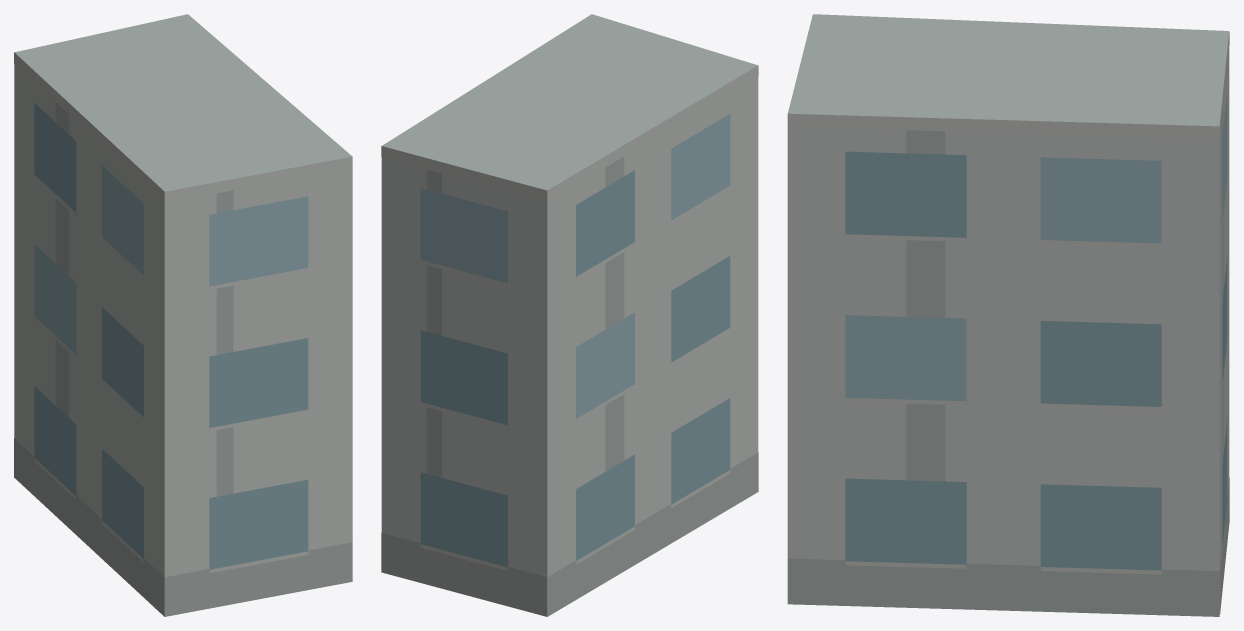
Rendered from survey-upis-32538374.glb.
3 renders of one model, left to right at view 1: azimuth 30°, elevation 25°; view 2: azimuth 150°, elevation 25°; view 3: azimuth 270°, elevation 25°, orthographic. The views are drawn at different scales.
Visible parts, largest first — view 1: survey-upis-32538374.tmp; view 2: survey-upis-32538374.tmp; view 3: survey-upis-32538374.tmp.
Boxes of the visible parts, box(x1,y1,x2,y2) form: survey-upis-32538374.tmp: box(14, 14, 352, 616); survey-upis-32538374.tmp: box(381, 14, 758, 616); survey-upis-32538374.tmp: box(787, 14, 1229, 616).
Size of the model in its own units: 4.5 by 9.15 by 7.48.
